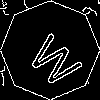W: (25, 25, 91, 91)
